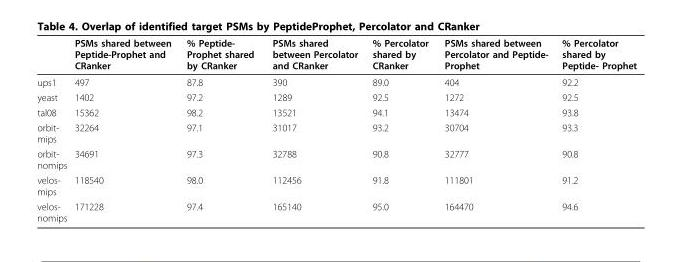table: (36, 36, 635, 223)
table column: (435, 36, 554, 223), (70, 36, 178, 223), (262, 36, 364, 223), (178, 36, 262, 223), (554, 36, 635, 223), (364, 36, 435, 223), (36, 36, 70, 223)
table column header: (36, 36, 635, 73)
table row: (36, 36, 635, 73), (36, 145, 635, 172), (36, 119, 635, 145), (36, 172, 635, 198), (36, 198, 635, 223), (36, 73, 635, 89), (36, 89, 635, 104), (36, 104, 635, 119)
